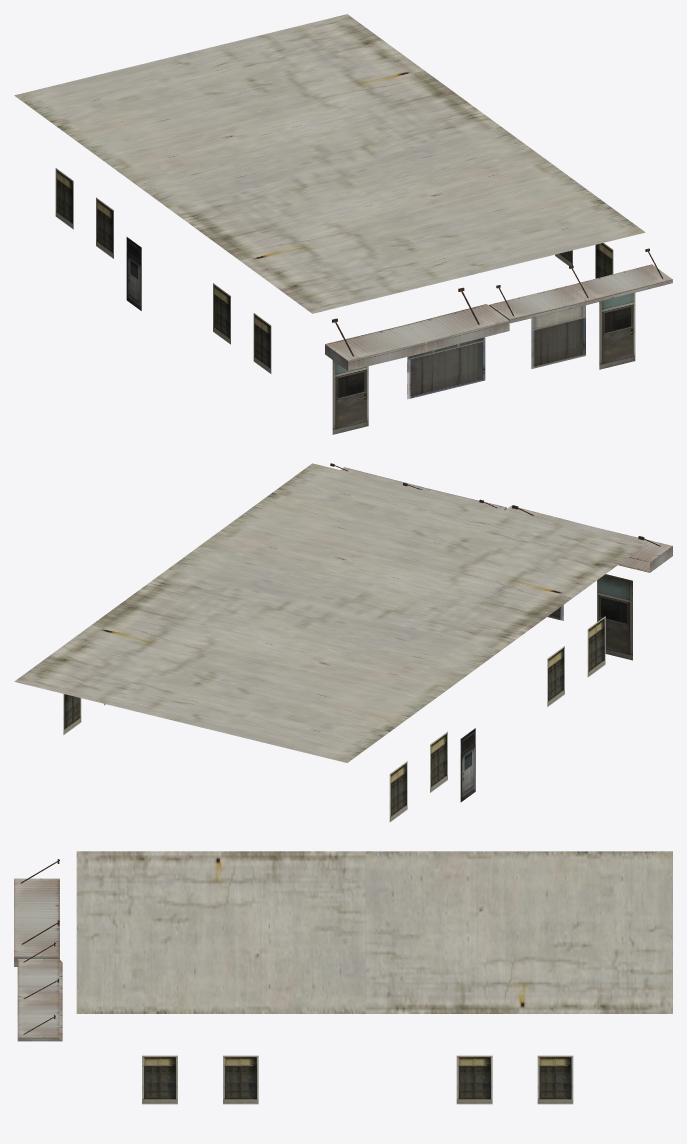
The model's file is rural_storesmall_6_rural_facade_flr_2_0_lev2.glb.
The picture shows the model from 3 angles, top to bottom: view 1: azimuth 30°, elevation 25°; view 2: azimuth 150°, elevation 25°; view 3: azimuth 270°, elevation 25°; orthographic projection.
Visible parts, largest first — view 1: rural_storesmall_6_rural_facade_flr_2_0_lev2; view 2: rural_storesmall_6_rural_facade_flr_2_0_lev2; view 3: rural_storesmall_6_rural_facade_flr_2_0_lev2.
Boxes of the visible parts, box(x1,y1,x2,y2) form: rural_storesmall_6_rural_facade_flr_2_0_lev2: box(14, 14, 672, 434); rural_storesmall_6_rural_facade_flr_2_0_lev2: box(14, 463, 672, 822); rural_storesmall_6_rural_facade_flr_2_0_lev2: box(14, 851, 672, 1104).
Bounding box in the file's own units: 8.91 × 3.12 × 15.23.
1 material, 1 textured.
